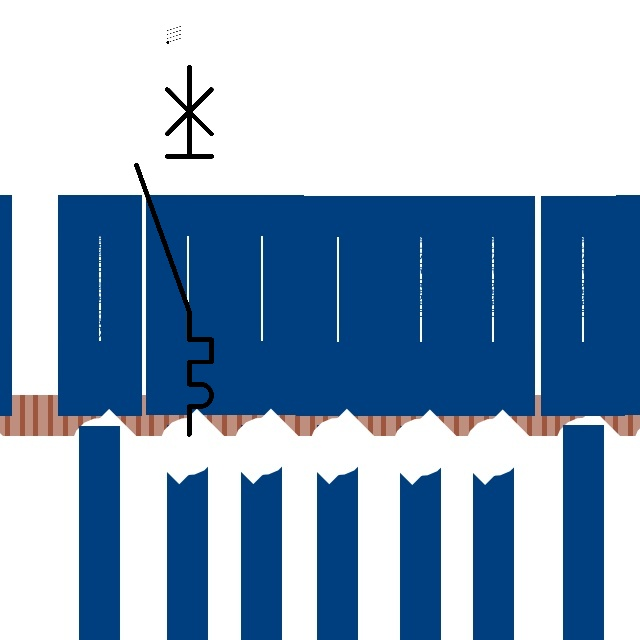interruptor_termomagnetico: (127, 57, 221, 443)
